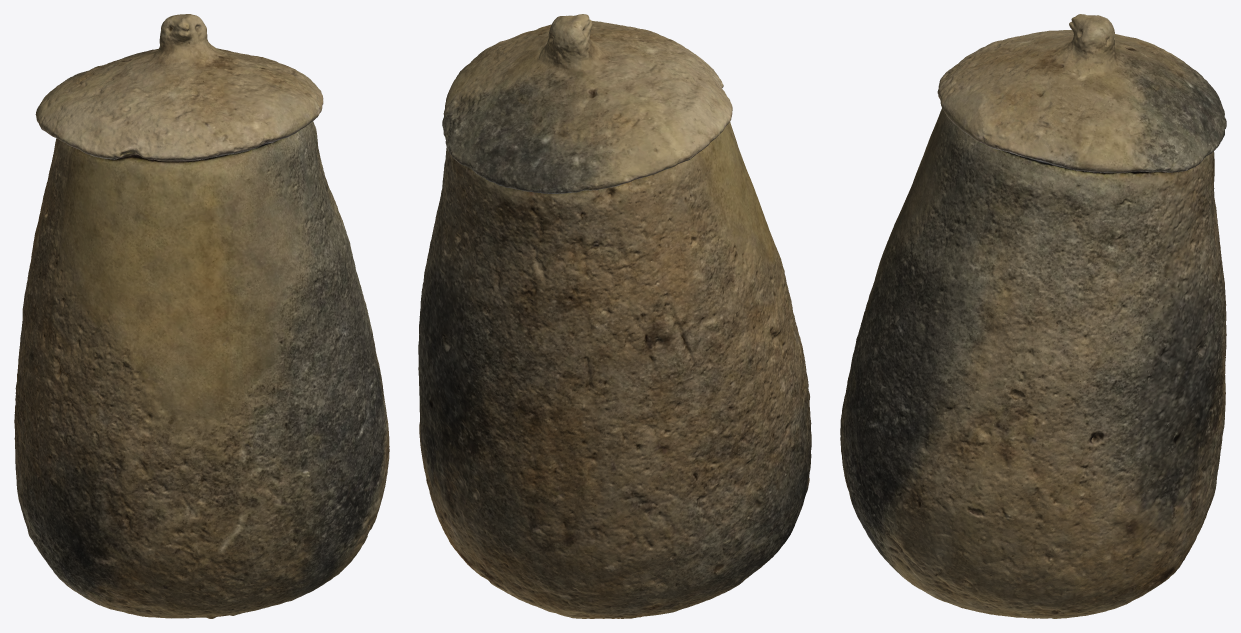
The picture shows the model from 3 angles, left to right: view 1: azimuth 30°, elevation 25°; view 2: azimuth 150°, elevation 25°; view 3: azimuth 270°, elevation 25°; orthographic projection. The views are drawn at different scales.
Visible parts, largest first — view 1: Mesh_0.028; view 2: Mesh_0.028; view 3: Mesh_0.028.
Part boxes in pixels (bbox=[...]): Mesh_0.028: bbox=[14, 14, 389, 618]; Mesh_0.028: bbox=[418, 14, 811, 618]; Mesh_0.028: bbox=[840, 14, 1226, 618].
Size of the model in its own units: 0.0977 by 0.1591 by 0.0972.
Materials: 1 (1 with a texture image).
